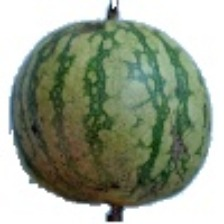watermelon: (45, 45, 216, 201)
